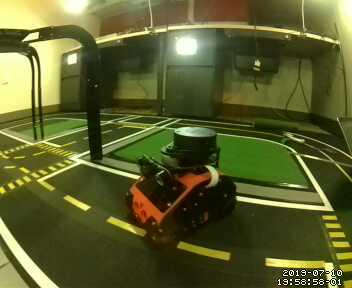pheeno: (122, 120, 240, 246)
